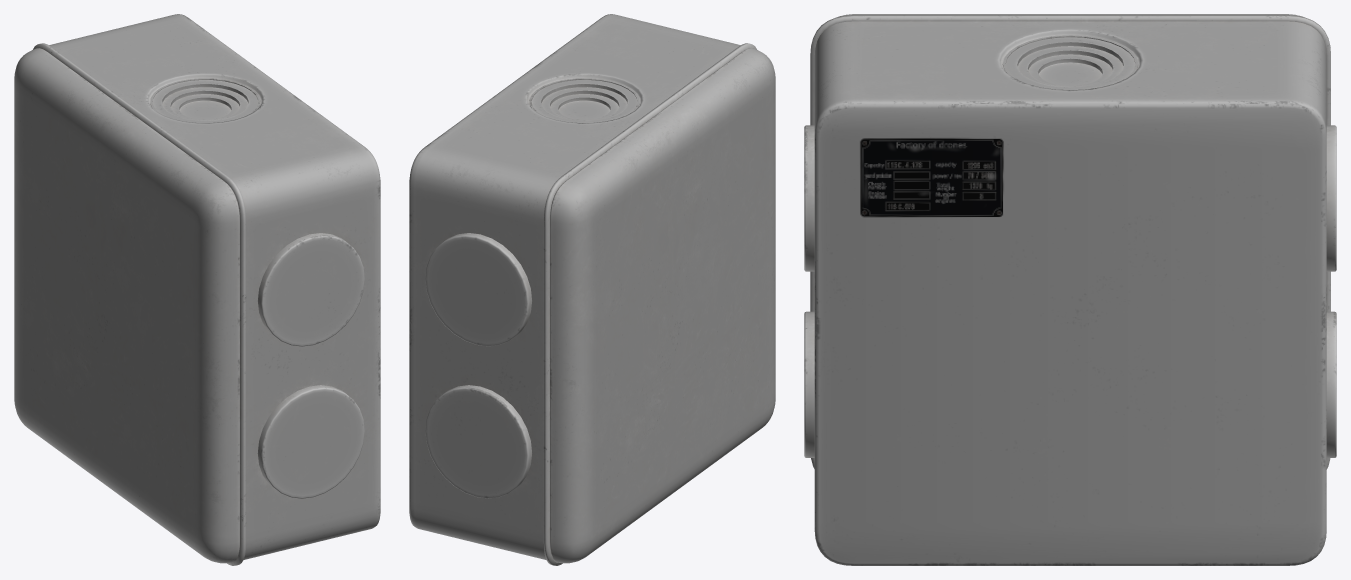
File: WireBox1.fbx
The picture shows the model from 3 angles, left to right: view 1: azimuth 30°, elevation 25°; view 2: azimuth 150°, elevation 25°; view 3: azimuth 270°, elevation 25°; orthographic projection. The views are drawn at different scales.
Parts seen in each view (by area): view 1: WireBox1_LOD0; view 2: WireBox1_LOD0; view 3: WireBox1_LOD0.
Boxes of the visible parts, x1,y1,x2,y2 form: WireBox1_LOD0: [14, 14, 380, 565]; WireBox1_LOD0: [409, 14, 775, 565]; WireBox1_LOD0: [804, 14, 1336, 565].
Size of what is drawn, in the model's own units: 1476 by 3215 by 3285.
